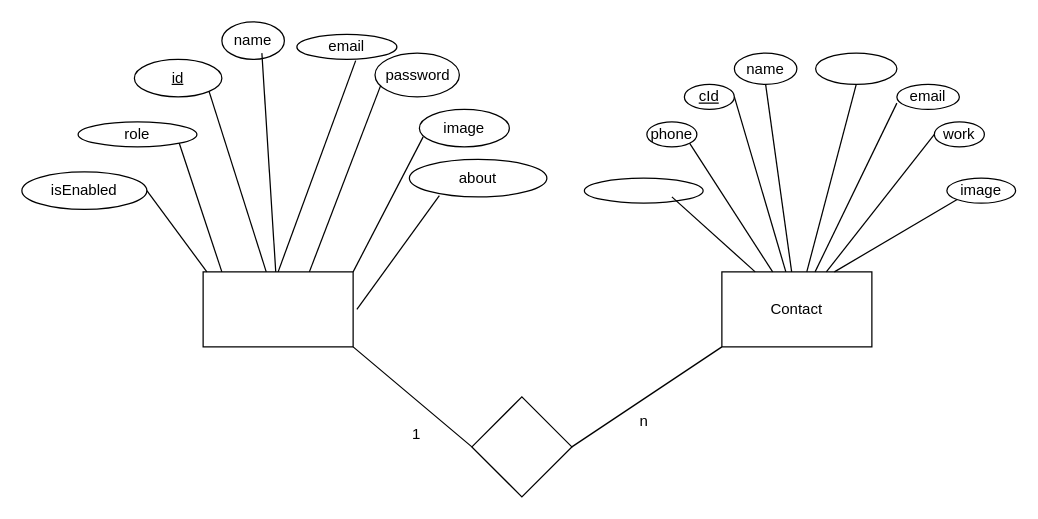
Image size: 1038x519. Some labels were removed from this diagram. Here are the shapes that lost their labels. From the top down, the box of each, then its label:
(814, 52, 897, 84): nickName
(583, 177, 703, 203): description
(202, 271, 353, 347): User
(471, 396, 572, 497): has
